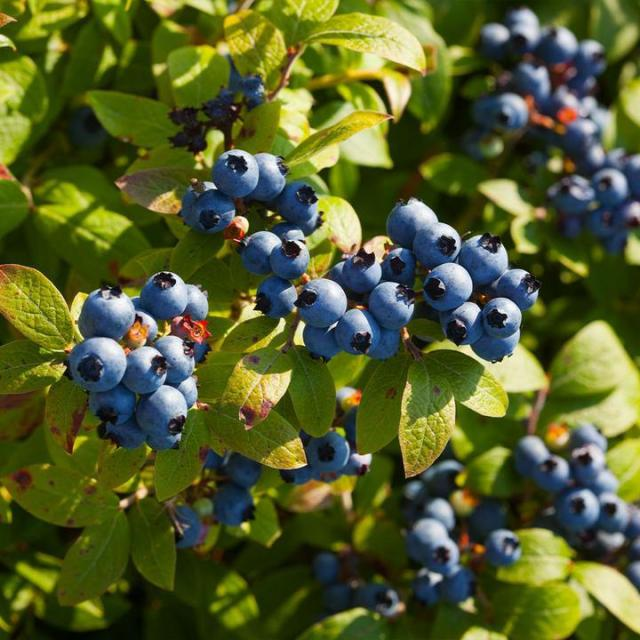BlueBerry - v1: (71, 280, 138, 345), (64, 335, 128, 395), (454, 228, 510, 290), (381, 191, 442, 247), (292, 276, 352, 332), (132, 382, 188, 438), (362, 279, 420, 333), (417, 260, 475, 311), (491, 260, 545, 314), (210, 146, 262, 202), (140, 268, 190, 326), (409, 217, 463, 269), (464, 323, 525, 369), (434, 299, 489, 349), (121, 347, 173, 399), (85, 413, 147, 456), (301, 425, 351, 477), (252, 148, 295, 208), (328, 308, 379, 358), (252, 272, 302, 321), (212, 483, 262, 532), (340, 247, 388, 298), (165, 500, 211, 552), (268, 176, 316, 225), (535, 22, 587, 67), (159, 331, 202, 385), (545, 172, 596, 217), (560, 116, 612, 160), (186, 189, 236, 234), (588, 164, 634, 212), (476, 293, 524, 339), (90, 381, 138, 427), (234, 228, 282, 272), (268, 237, 314, 282), (558, 487, 604, 531), (223, 445, 266, 491), (591, 487, 633, 533), (378, 238, 418, 286), (481, 524, 524, 568), (300, 326, 346, 366), (488, 89, 531, 131), (367, 324, 409, 367), (566, 441, 609, 483), (420, 535, 462, 578), (569, 35, 611, 77), (514, 432, 549, 480), (532, 452, 572, 494), (399, 476, 440, 516), (569, 417, 612, 455), (472, 20, 512, 60), (502, 19, 548, 53), (180, 280, 214, 325), (420, 494, 458, 534), (406, 516, 446, 554), (145, 426, 187, 461), (514, 58, 556, 93), (435, 567, 473, 605), (409, 574, 447, 612), (308, 548, 344, 586), (203, 432, 232, 478), (362, 578, 397, 616), (593, 462, 627, 500), (610, 143, 640, 185), (343, 445, 378, 481), (276, 457, 313, 491), (612, 194, 640, 237), (131, 304, 161, 344), (585, 202, 622, 234), (292, 202, 327, 234), (170, 372, 198, 412), (320, 582, 354, 614), (434, 457, 465, 487), (618, 562, 640, 594), (622, 534, 640, 566), (623, 507, 640, 535)
